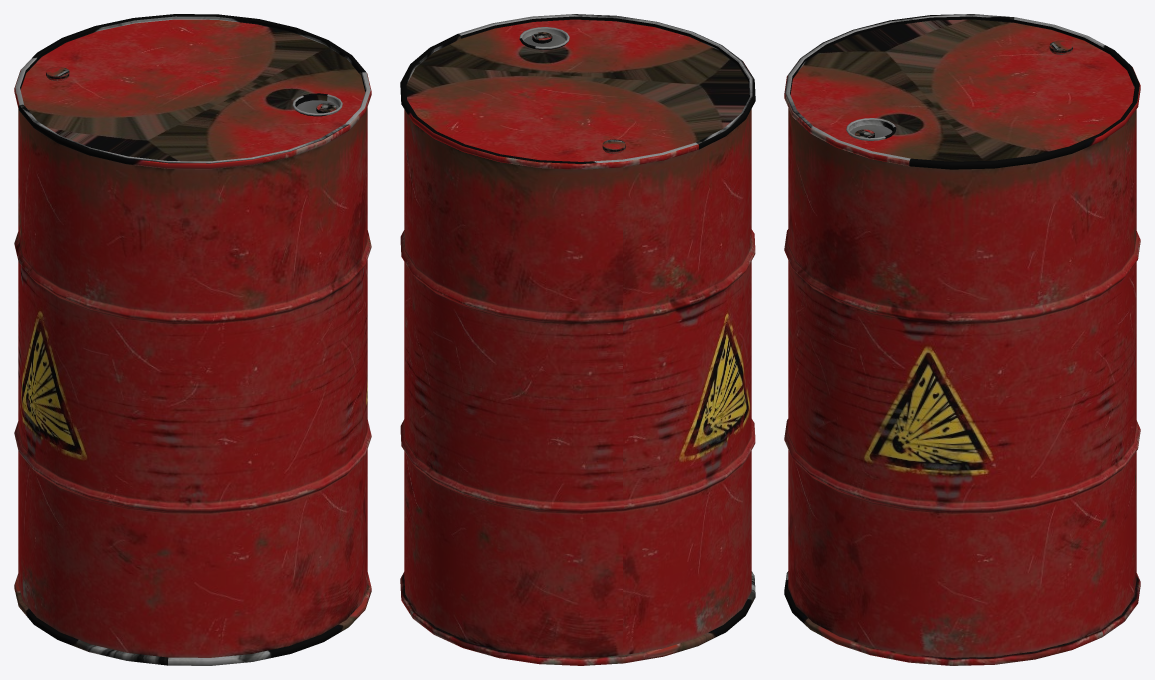
The model's file is Barrel_01.obj.
3 views of the same model, side by side, from view 1: azimuth 30°, elevation 25°; view 2: azimuth 150°, elevation 25°; view 3: azimuth 270°, elevation 25° (orthographic).
Visible parts, largest first — view 1: Barrel_01_Barrel_01_0; view 2: Barrel_01_Barrel_01_0; view 3: Barrel_01_Barrel_01_0.
Part boxes in pixels (bbox=[...]): Barrel_01_Barrel_01_0: bbox=[14, 14, 371, 665]; Barrel_01_Barrel_01_0: bbox=[400, 14, 755, 665]; Barrel_01_Barrel_01_0: bbox=[784, 14, 1140, 665].
Size of the model in its own units: 0.563 by 0.88 by 0.563.
1 material, 1 textured.
